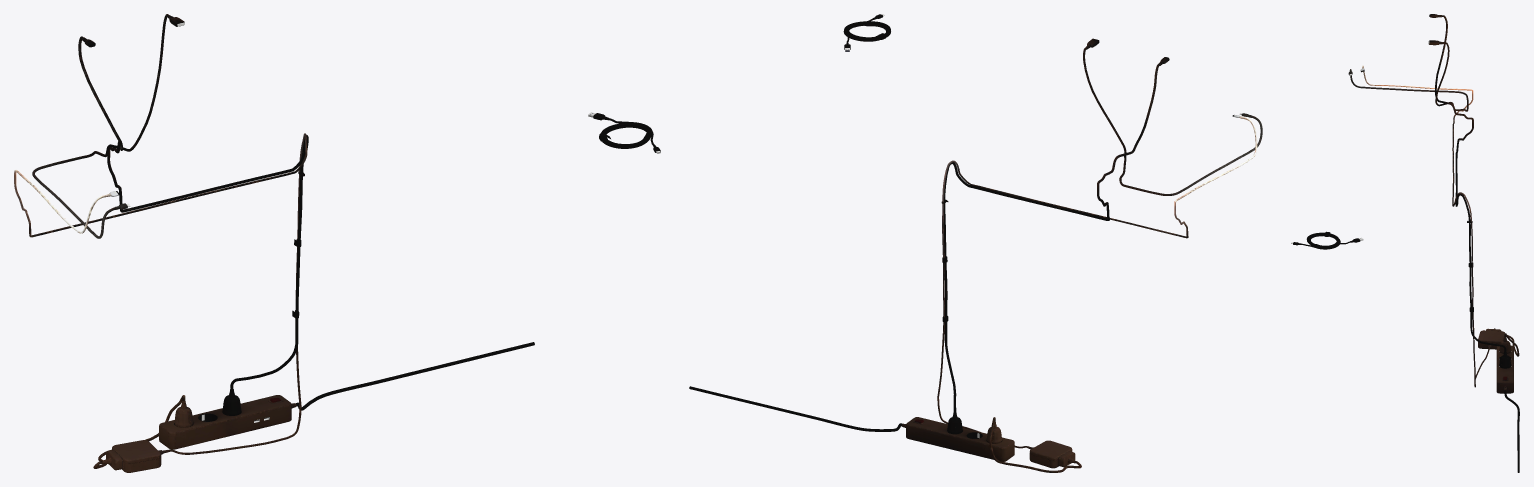
Rendered from cables.glb.
The picture shows the model from 3 angles, left to right: view 1: azimuth 30°, elevation 25°; view 2: azimuth 150°, elevation 25°; view 3: azimuth 270°, elevation 25°; orthographic projection. The views are drawn at different scales.
Parts seen in each view (by area): view 1: NEW_cables_root__mesh; view 2: NEW_cables_root__mesh; view 3: NEW_cables_root__mesh.
Boxes of the visible parts, x1,y1,x2,y2 form: NEW_cables_root__mesh: (14, 14, 660, 472); NEW_cables_root__mesh: (689, 14, 1262, 472); NEW_cables_root__mesh: (1291, 14, 1519, 472).
Bounding box in the file's own units: 1.31 × 1.05 × 0.7199.
Materials: 3 (3 with a texture image).
